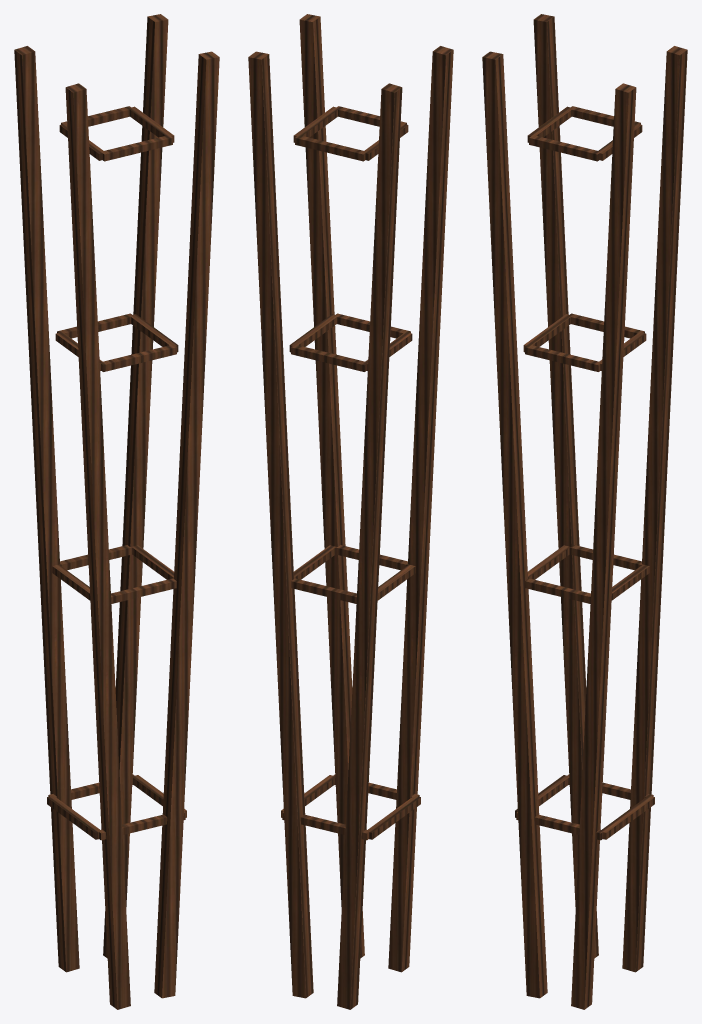
The model's file is lattice_mast_01.glb.
3 renders of one model, left to right at view 1: azimuth 30°, elevation 25°; view 2: azimuth 150°, elevation 25°; view 3: azimuth 330°, elevation 25°, orthographic.
Visible parts, largest first — view 1: lattice_mast_01; view 2: lattice_mast_01; view 3: lattice_mast_01.
Part boxes in pixels (x1,y1,x2,y2): lattice_mast_01: (14, 14, 219, 1009); lattice_mast_01: (248, 14, 453, 1009); lattice_mast_01: (482, 14, 687, 1009).
Size of the model in its own units: 1.32 by 8 by 0.92.
1 material, 1 textured.
